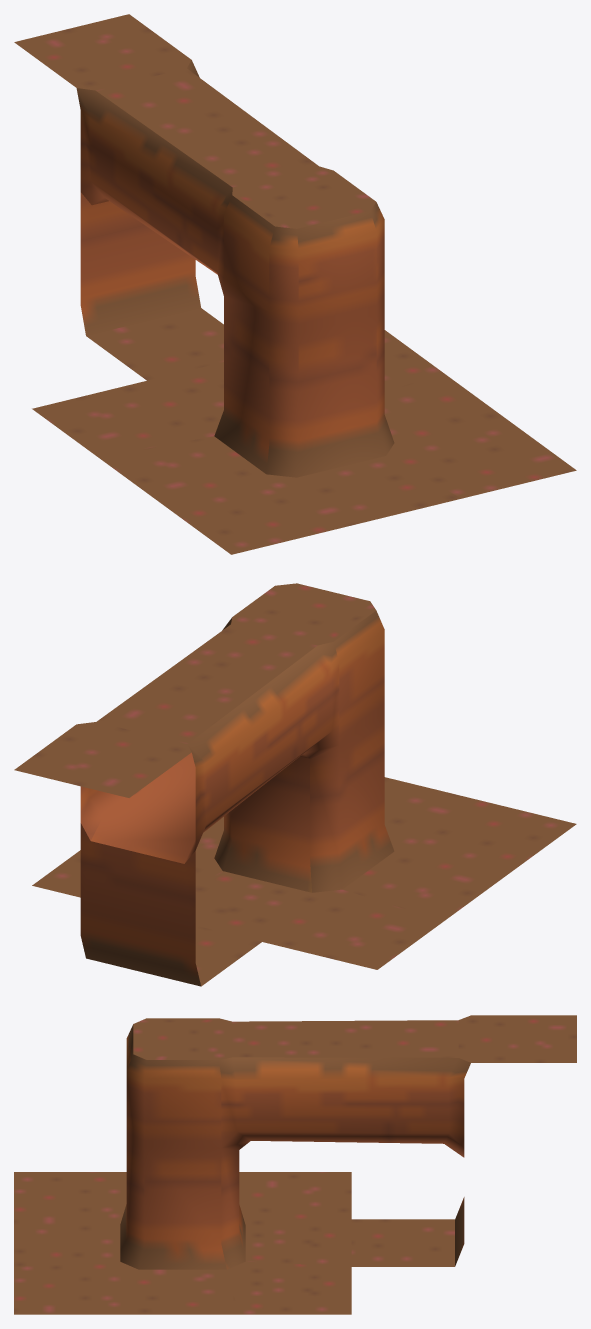
The model's file is canion_step_arch_v01.fbx.
The picture shows the model from 3 angles, top to bottom: view 1: azimuth 30°, elevation 25°; view 2: azimuth 150°, elevation 25°; view 3: azimuth 270°, elevation 25°; orthographic projection. The views are drawn at different scales.
Parts seen in each view (by area): view 1: canion_step_arch_v01; view 2: canion_step_arch_v01; view 3: canion_step_arch_v01.
Part boxes in pixels (x1,y1,x2,y2): canion_step_arch_v01: [14, 14, 576, 554]; canion_step_arch_v01: [14, 583, 576, 986]; canion_step_arch_v01: [14, 1015, 576, 1314].
Size of the model in its own units: 600 by 400 by 1000.
